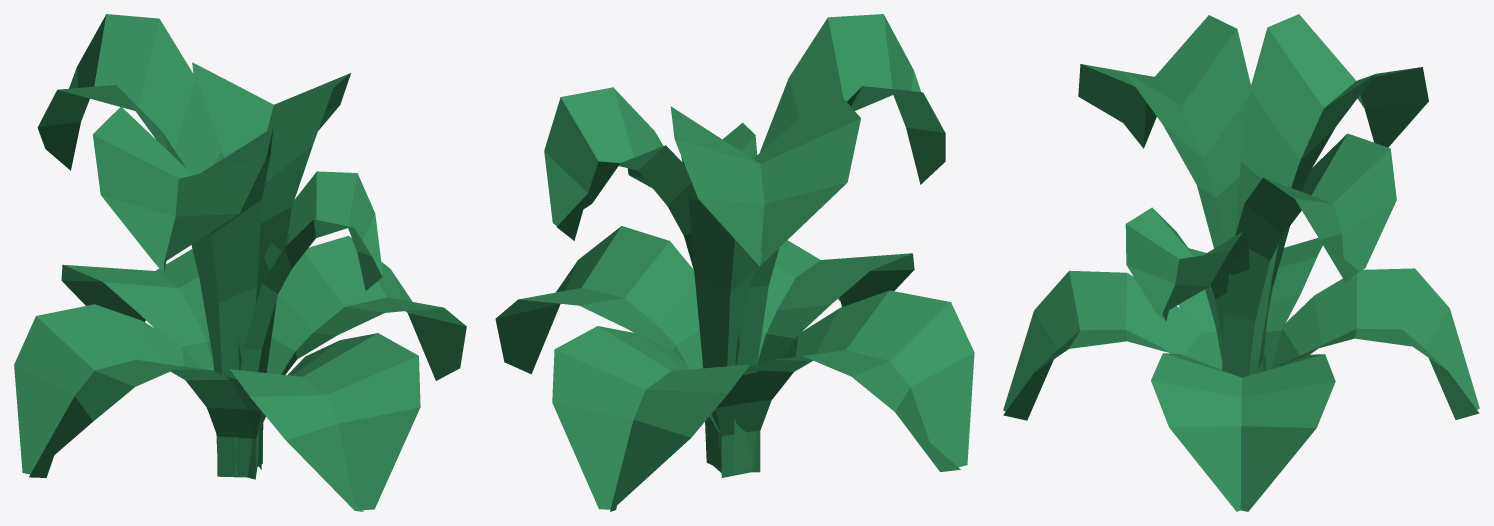
Rendered from Tropic_Bush_Big.fbx.
The picture shows the model from 3 angles, left to right: view 1: azimuth 30°, elevation 25°; view 2: azimuth 150°, elevation 25°; view 3: azimuth 270°, elevation 25°; orthographic projection. The views are drawn at different scales.
Parts seen in each view (by area): view 1: Plane.006; view 2: Plane.006; view 3: Plane.006.
Part boxes in pixels (x1=…): Plane.006: x1=14, y1=14, x2=466, y2=511; Plane.006: x1=495, y1=14, x2=974, y2=511; Plane.006: x1=1003, y1=14, x2=1479, y2=511.
Size of the model in its own units: 328 by 289 by 328.
